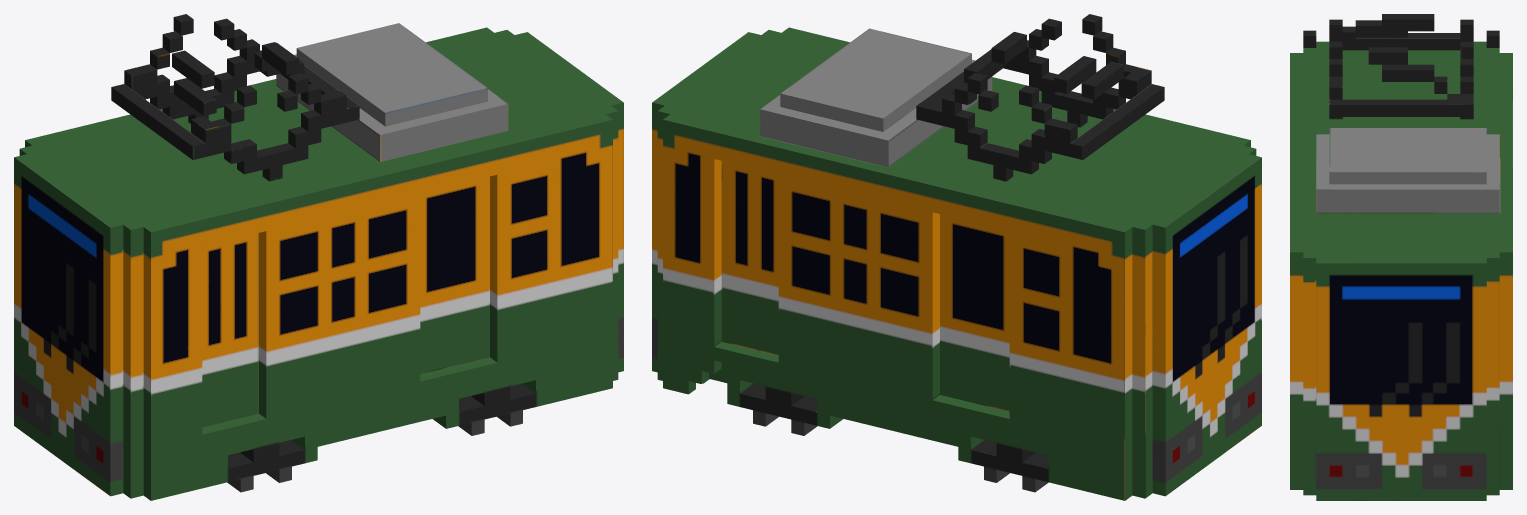
The model's file is kagoshimashiden2.glb.
3 views of the same model, side by side, from view 1: azimuth 30°, elevation 25°; view 2: azimuth 150°, elevation 25°; view 3: azimuth 270°, elevation 25° (orthographic). The views are drawn at different scales.
Visible parts, largest first — view 1: kagoshimashiden2; view 2: kagoshimashiden2; view 3: kagoshimashiden2.
Boxes of the visible parts, x1,y1,x2,y2 form: kagoshimashiden2: (14, 14, 623, 500); kagoshimashiden2: (652, 14, 1261, 500); kagoshimashiden2: (1290, 14, 1512, 500).
Size of the model in its own units: 0.8 by 0.56 by 0.34.
1 material, 1 textured.
